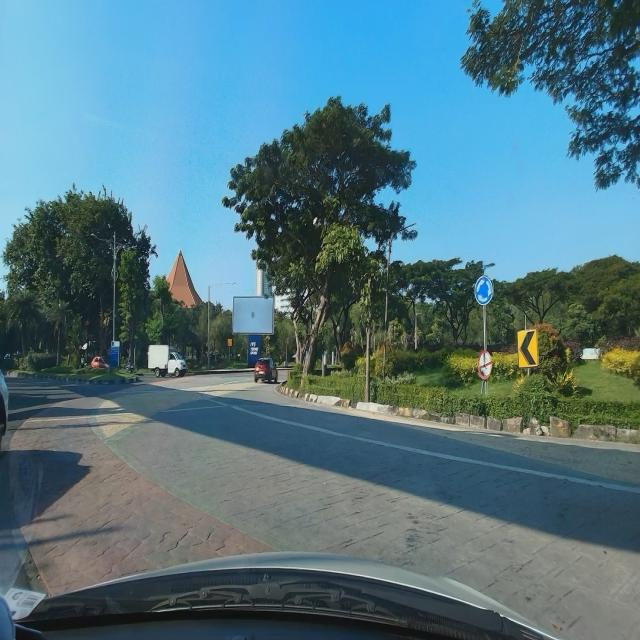car: (254, 358, 278, 384)
license-plate: (259, 371, 264, 374)
